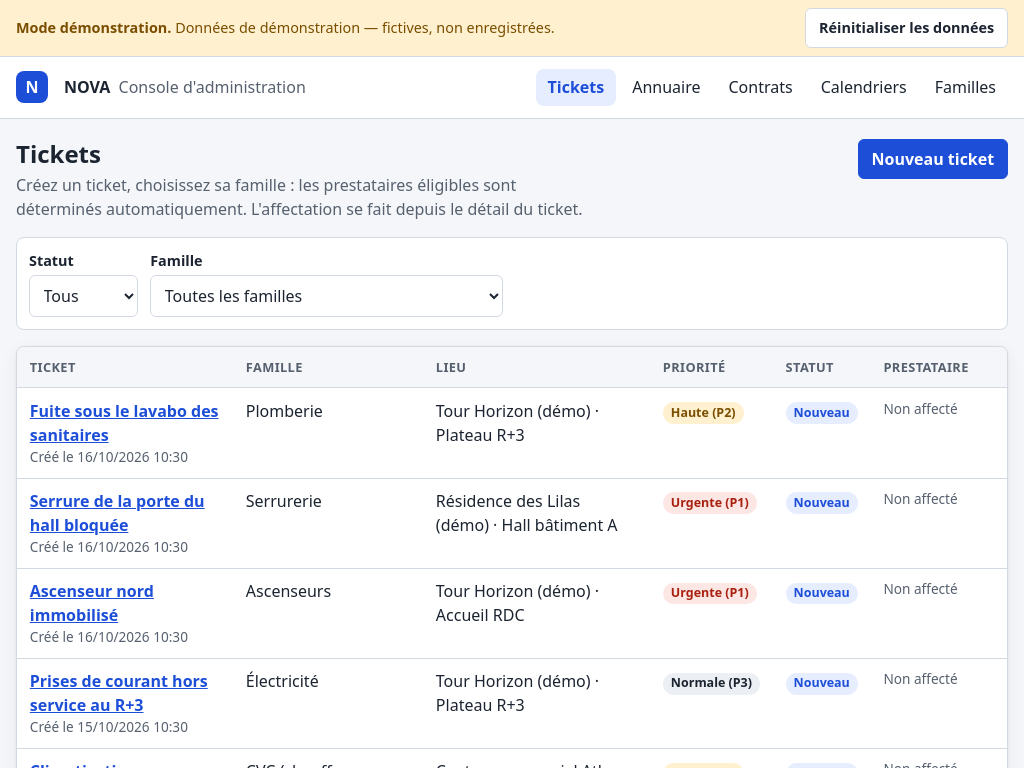
Test: détail du ticket et affectation › assurance échue : Électro-Plus exclu, Courant-Fort proposé à la place
Click the link "Prises de courant hors service au R+3" at (125,693), box [30,669,220,717]
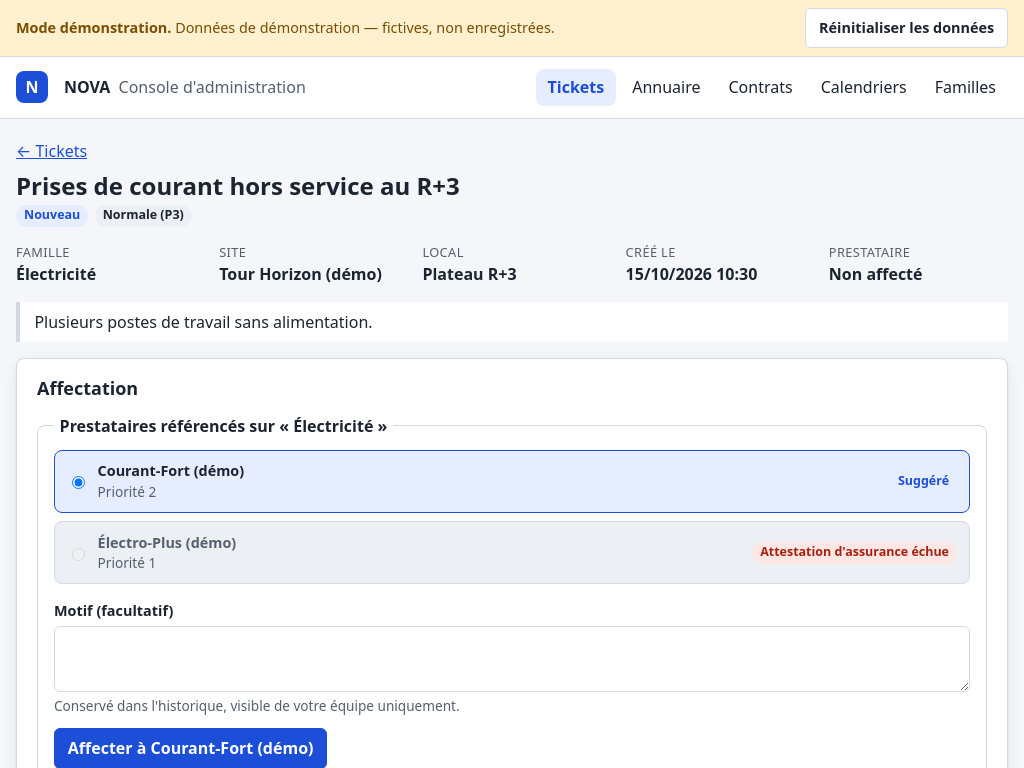
Now the text "Attestation d'assurance échue" is shown, box [752,542,957,564]
